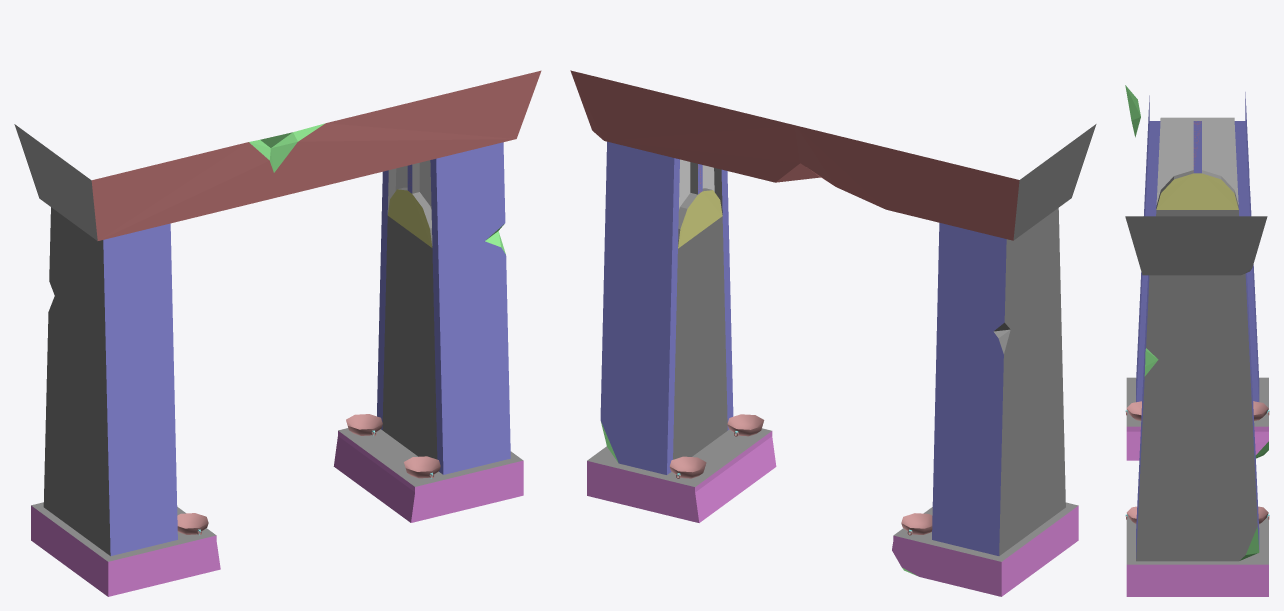
Rendered from SSQ_BRoom01_Gate.gltf.
3 views of the same model, side by side, from view 1: azimuth 30°, elevation 25°; view 2: azimuth 150°, elevation 25°; view 3: azimuth 270°, elevation 25° (orthographic). The views are drawn at different scales.
Parts seen in each view (by area): view 1: SSQ_BRoom01_Gate; view 2: SSQ_BRoom01_Gate; view 3: SSQ_BRoom01_Gate.
Boxes of the visible parts, x1,y1,x2,y2 form: SSQ_BRoom01_Gate: (14, 70, 541, 596); SSQ_BRoom01_Gate: (570, 70, 1096, 596); SSQ_BRoom01_Gate: (1125, 85, 1269, 596).
Size of the model in its own units: 4.34 by 3.88 by 1.31.
